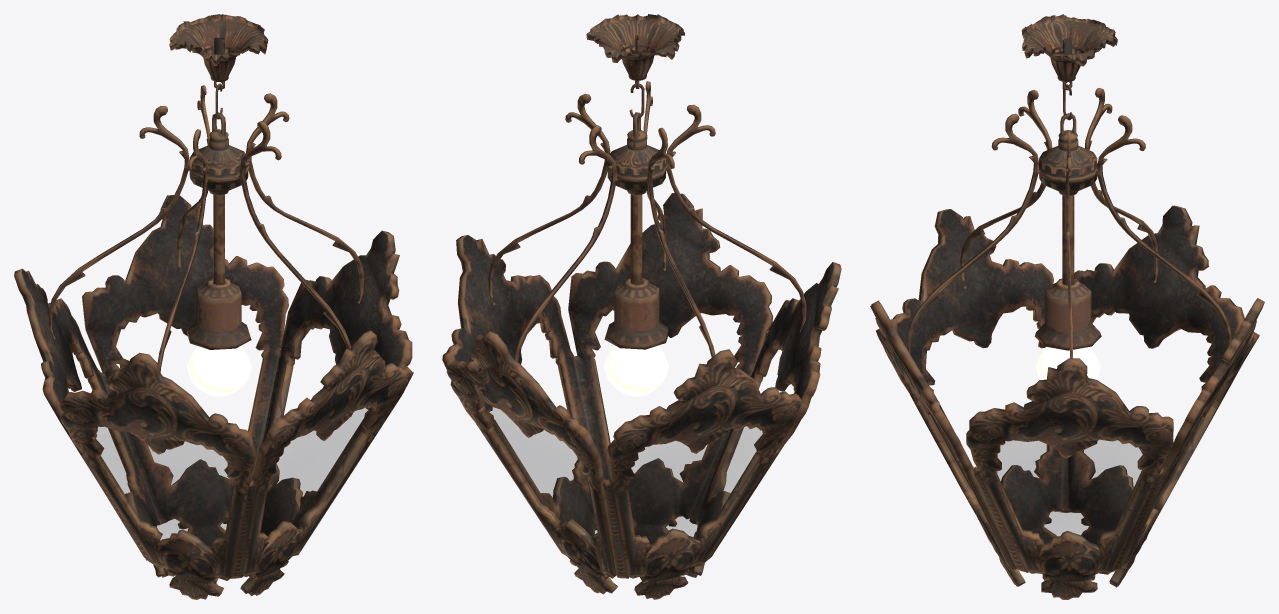
File: lantern_chandelier_01.glb
3 views of the same model, side by side, from view 1: azimuth 30°, elevation 25°; view 2: azimuth 150°, elevation 25°; view 3: azimuth 270°, elevation 25° (orthographic).
Parts seen in each view (by area): view 1: lantern_chandelier_01; view 2: lantern_chandelier_01; view 3: lantern_chandelier_01.
Boxes of the visible parts, bbox=[...] form: lantern_chandelier_01: bbox=[14, 14, 413, 599]; lantern_chandelier_01: bbox=[442, 14, 841, 599]; lantern_chandelier_01: bbox=[870, 14, 1264, 599].
Bounding box in the file's own units: 0.5792 × 0.8776 × 0.5746.
3 materials, 2 textured.
